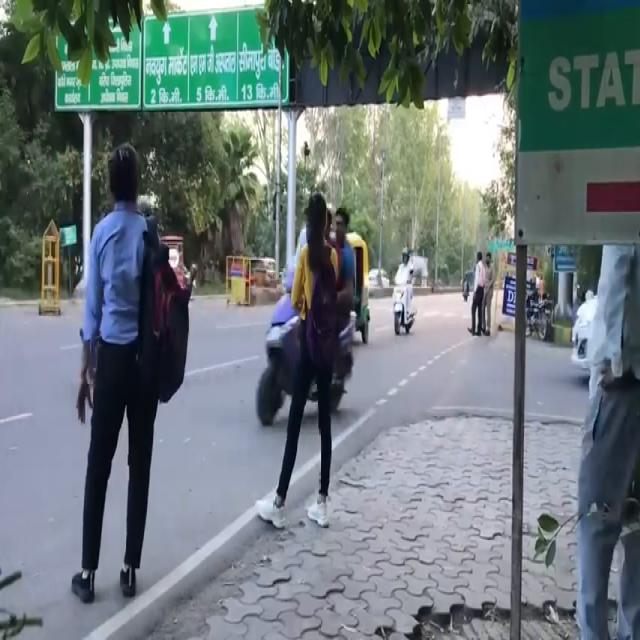MOTORCYCLE: (264, 278, 346, 417), (394, 274, 418, 338)
